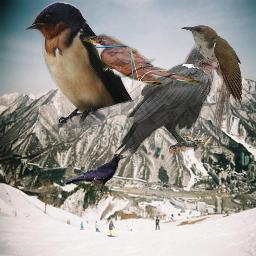Crow: (113, 44, 224, 157), (64, 153, 128, 199)
Cuckoo: (82, 32, 203, 91), (181, 24, 242, 136)
Swallow: (24, 1, 134, 128)
